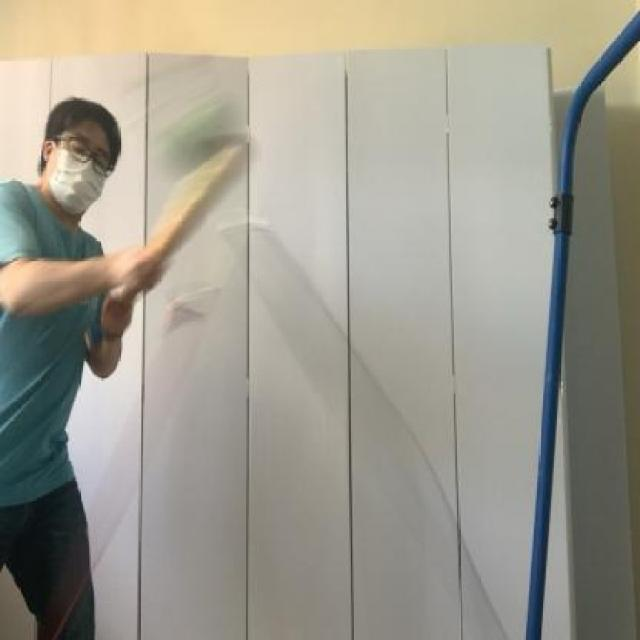baseball: (150, 96, 256, 190)
